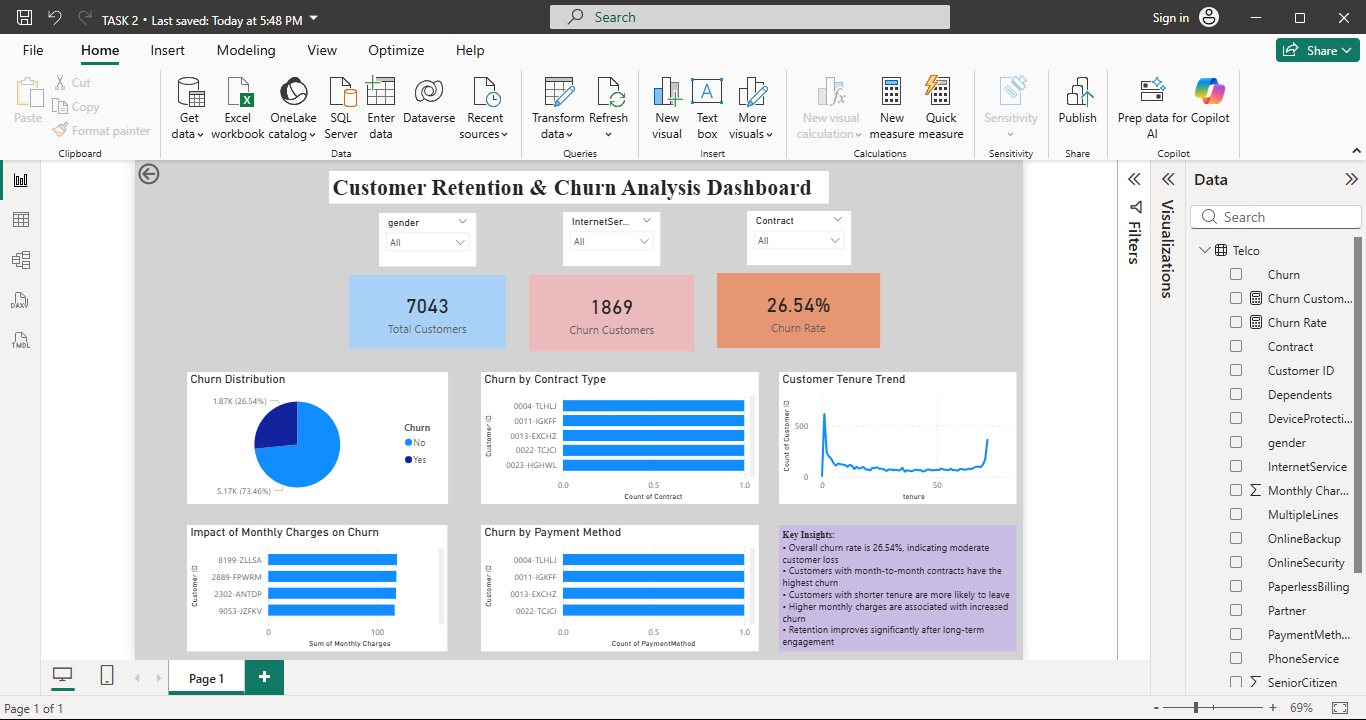

What the dashboard file says about the page in this screenshot:
{"tool":"powerbi","page":{"name":"Page 1","canvas":[1280,720],"ordinal":0},"visuals":[{"type":"card","fields":{"Values":["Telco.Churn Customers"]},"box":[566.7,165,238.3,110],"z":0},{"type":"actionButton","box":[0,0,100,40],"z":1000},{"type":"card","fields":{"Values":["Telco.Churn Rate"]},"box":[838.3,163.3,235,108.3],"z":2000},{"type":"slicer","fields":{"Values":["Telco.InternetService"]},"box":[616.7,75,140,78.3],"z":3000},{"type":"textbox","box":[280,15.7,720,47.1],"z":4000},{"type":"card","fields":{"Values":["Telco.Total Customers"]},"box":[308.6,165.7,225.7,105.7],"z":5000},{"type":"pieChart","title":"Churn Distribution","fields":{"Category":["Telco.Churn"],"Y":["CountNonNull(Telco.Customer ID)"]},"box":[74.3,305.7,375.7,190],"z":6000},{"type":"barChart","title":"Impact of Monthly Charges on Churn","fields":{"Y":["Sum(Telco.Monthly Charges)"],"Category":["Telco.Customer ID"]},"box":[75,525,375,181.7],"z":7000},{"type":"lineChart","title":"Customer Tenure Trend","fields":{"Category":["Telco.tenure"],"Y":["CountNonNull(Telco.Customer ID)"]},"box":[926.7,305,341.7,190],"z":8000},{"type":"barChart","title":"Churn by Payment Method","fields":{"Y":["CountNonNull(Telco.PaymentMethod)"],"Category":["Telco.Customer ID"]},"box":[498.3,525,400,181.7],"z":9000},{"type":"barChart","title":"Churn by Contract Type","fields":{"Y":["CountNonNull(Telco.Contract)"],"Category":["Telco.Customer ID"]},"box":[498.6,305.7,400,190],"z":10000},{"type":"slicer","fields":{"Values":["Telco.gender"]},"box":[351.4,75.7,140,77.1],"z":11000},{"type":"slicer","fields":{"Values":["Telco.Contract"]},"box":[881.7,73.3,150,78.3],"z":12000},{"type":"textbox","box":[926.7,525,341.7,181.7],"z":13000}]}

Visuals, with their boxes on the page's 1280x720 design canvas (x1, y1, x2, y2). These are canvas units, not pixel positions in the 1366x720 screenshot, which may show the page scaled, cropped or inside an application window:
card - Telco.Churn Customers: <region>567, 165, 805, 275</region>
actionButton: <region>0, 0, 100, 40</region>
card - Telco.Churn Rate: <region>838, 163, 1073, 272</region>
slicer - Telco.InternetService: <region>617, 75, 757, 153</region>
textbox: <region>280, 16, 1000, 63</region>
card - Telco.Total Customers: <region>309, 166, 534, 271</region>
"Churn Distribution" pieChart: <region>74, 306, 450, 496</region>
"Impact of Monthly Charges on Churn" barChart: <region>75, 525, 450, 707</region>
"Customer Tenure Trend" lineChart: <region>927, 305, 1268, 495</region>
"Churn by Payment Method" barChart: <region>498, 525, 898, 707</region>
"Churn by Contract Type" barChart: <region>499, 306, 899, 496</region>
slicer - Telco.gender: <region>351, 76, 491, 153</region>
slicer - Telco.Contract: <region>882, 73, 1032, 152</region>
textbox: <region>927, 525, 1268, 707</region>
